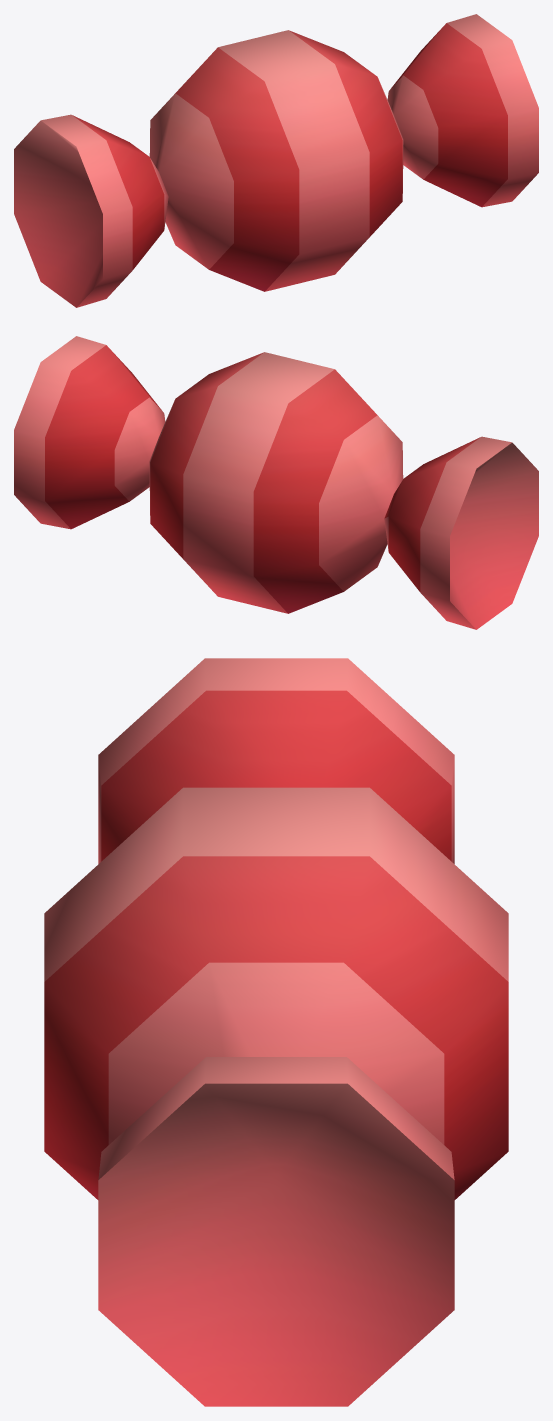
The model's file is candy_pink_b.glb.
3 views of the same model, one above another, from view 1: azimuth 30°, elevation 25°; view 2: azimuth 150°, elevation 25°; view 3: azimuth 270°, elevation 25° (orthographic). The views are drawn at different scales.
Visible parts, largest first — view 1: candy_pink_B; view 2: candy_pink_B; view 3: candy_pink_B.
Boxes of the visible parts, x1,y1,x2,y2 form: candy_pink_B: (14, 14, 538, 307); candy_pink_B: (14, 336, 538, 629); candy_pink_B: (44, 658, 508, 1406).
Bounding box in the file's own units: 0.65 × 0.3 × 0.3.
1 material, 1 textured.
